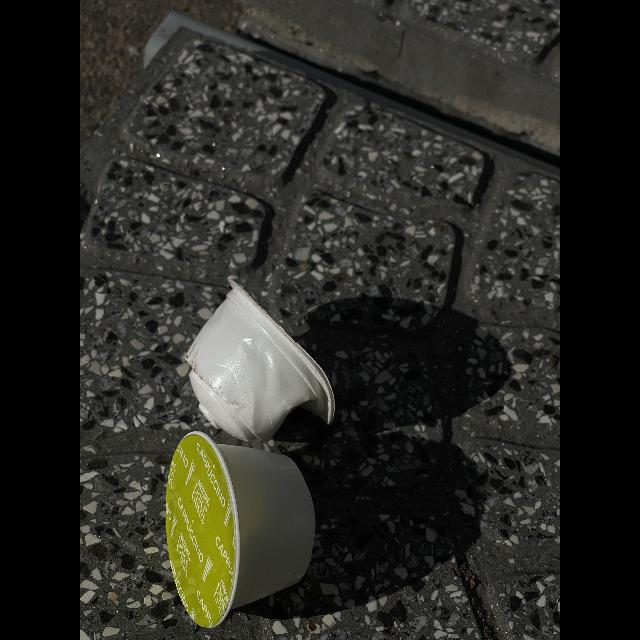damaged_capsule: (172, 274, 362, 431)
intact_capsule: (158, 422, 324, 640)
